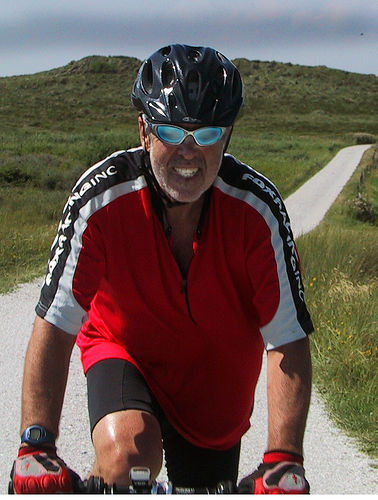without_mask: (135, 106, 233, 205)
